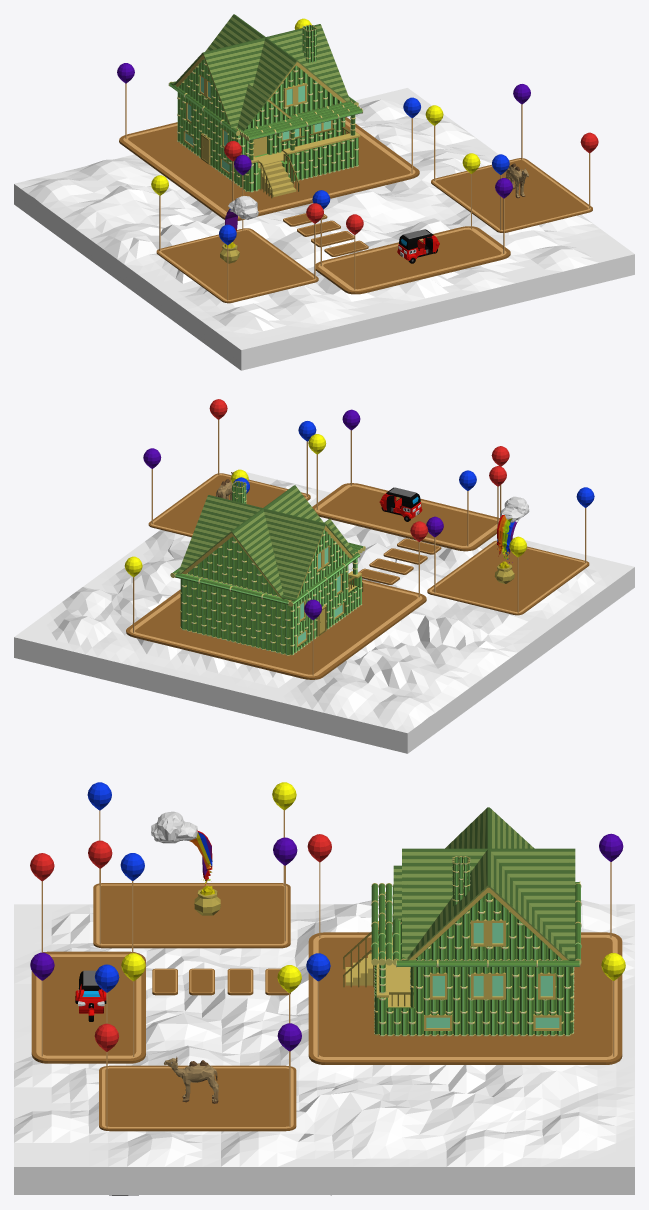
3 views of the same model, one above another, from view 1: azimuth 30°, elevation 25°; view 2: azimuth 150°, elevation 25°; view 3: azimuth 270°, elevation 25° (orthographic). The views are drawn at different scales.
Parts seen in each view (by area): view 1: Cube.013, Cube.1327, OBJRANDOM_RAINBOW, VEHICLES_TUC_TUC; view 2: Cube.013, Cube.1327, OBJRANDOM_RAINBOW, VEHICLES_TUC_TUC; view 3: Cube.013, Cube.1327, OBJRANDOM_RAINBOW, ANIMAL_CAMELLO, VEHICLES_TUC_TUC.
Boxes of the visible parts, bbox=[...] form: Cube.013: bbox=[14, 18, 634, 370]; Cube.1327: bbox=[168, 14, 363, 198]; OBJRANDOM_RAINBOW: bbox=[220, 196, 258, 263]; VEHICLES_TUC_TUC: bbox=[397, 229, 439, 263]; Cube.013: bbox=[14, 399, 634, 753]; Cube.1327: bbox=[170, 481, 365, 655]; OBJRANDOM_RAINBOW: bbox=[494, 496, 529, 583]; VEHICLES_TUC_TUC: bbox=[379, 487, 422, 521]; Cube.013: bbox=[14, 782, 634, 1194]; Cube.1327: bbox=[343, 807, 581, 1036]; OBJRANDOM_RAINBOW: bbox=[151, 811, 220, 915]; ANIMAL_CAMELLO: bbox=[164, 1056, 218, 1103]; VEHICLES_TUC_TUC: bbox=[75, 970, 106, 1021].
Size of the model in its own units: 4000 by 1670 by 4000.
37 materials, 2 textured.
